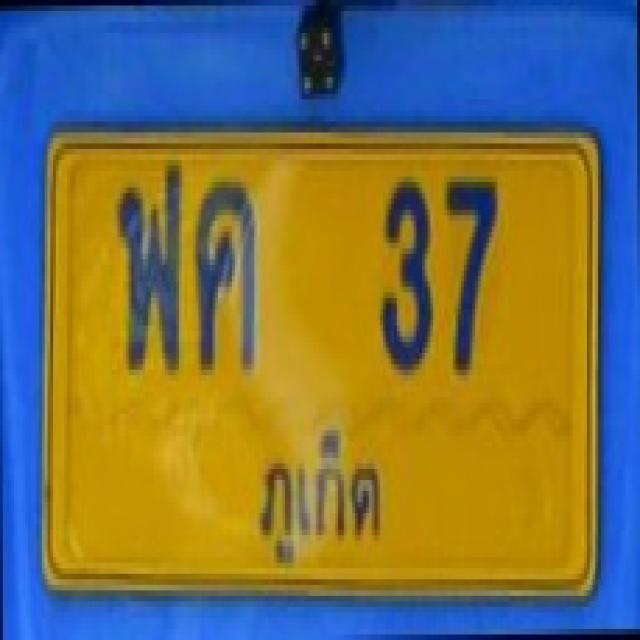3: (368, 164, 443, 413)
7: (438, 143, 508, 411)
A04: (192, 160, 262, 388)
A31: (112, 148, 190, 392)
PKT: (241, 404, 405, 580)
